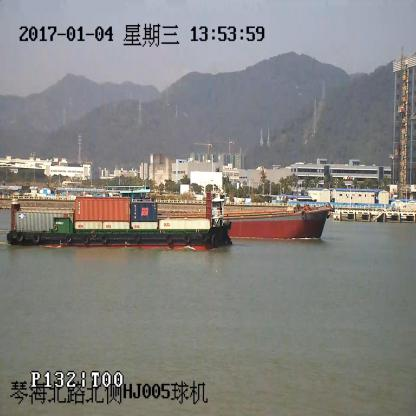Container Ship: (7, 196, 233, 244)
